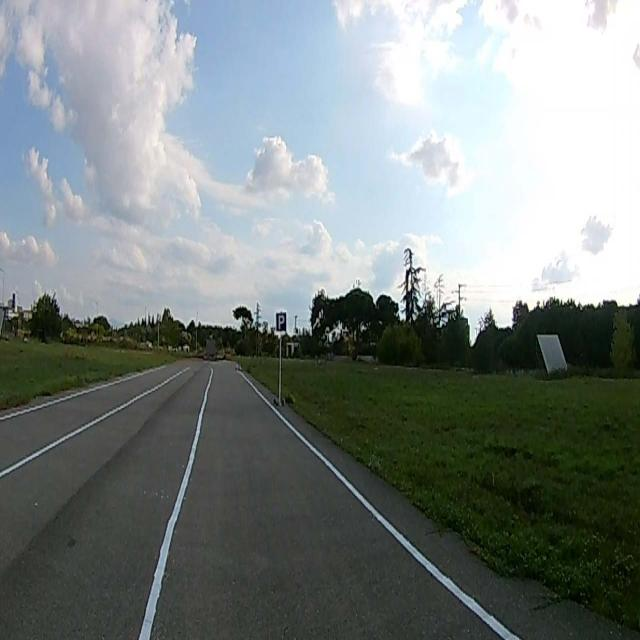park: (276, 311, 287, 333)
